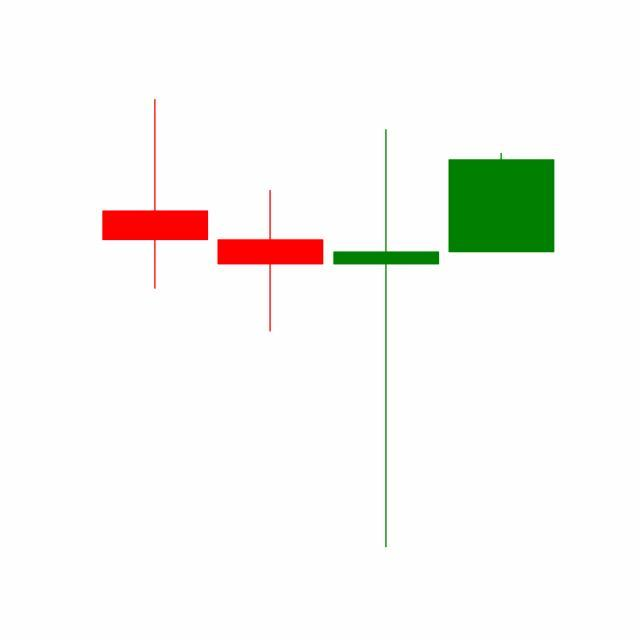Spinning Top: (329, 126, 445, 553)
